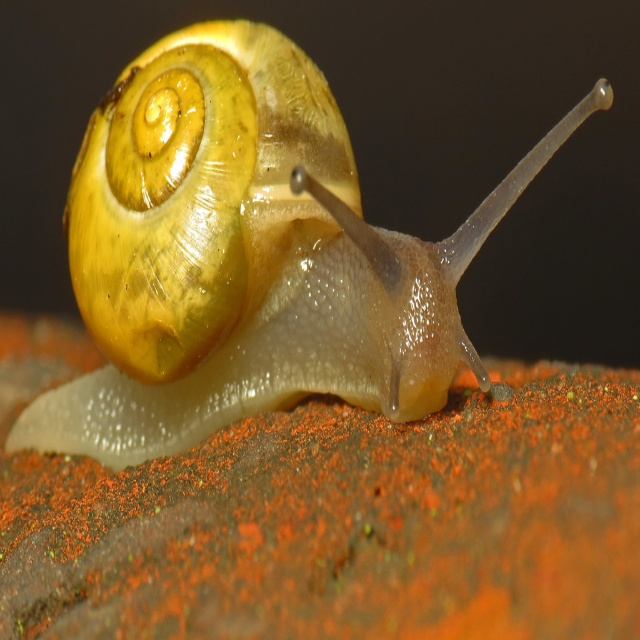Snail: (6, 16, 614, 479)
